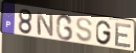8: (17, 8, 34, 35)
E: (113, 22, 133, 49)
G: (55, 13, 74, 42), (95, 20, 113, 46)
N: (35, 11, 55, 38)
S: (75, 17, 93, 43)
